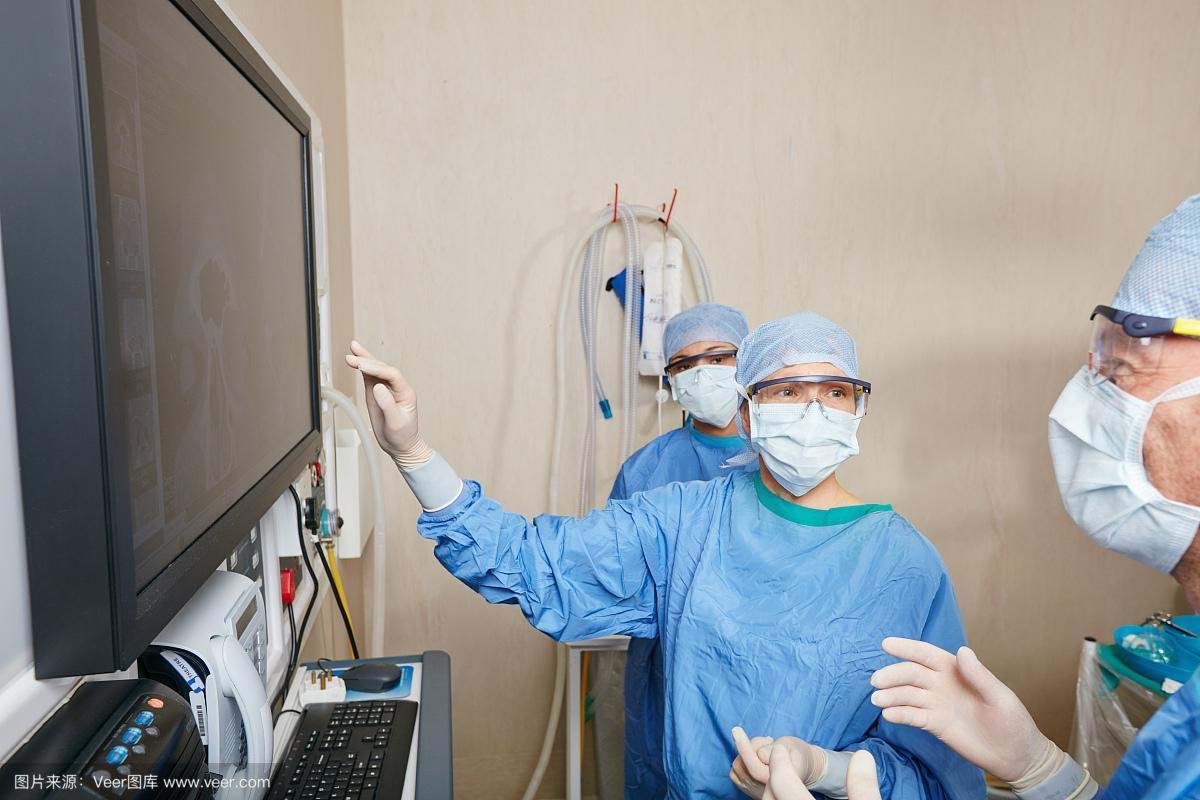rightmask: (1039, 186, 1200, 577), (736, 318, 872, 502), (657, 309, 765, 435)
